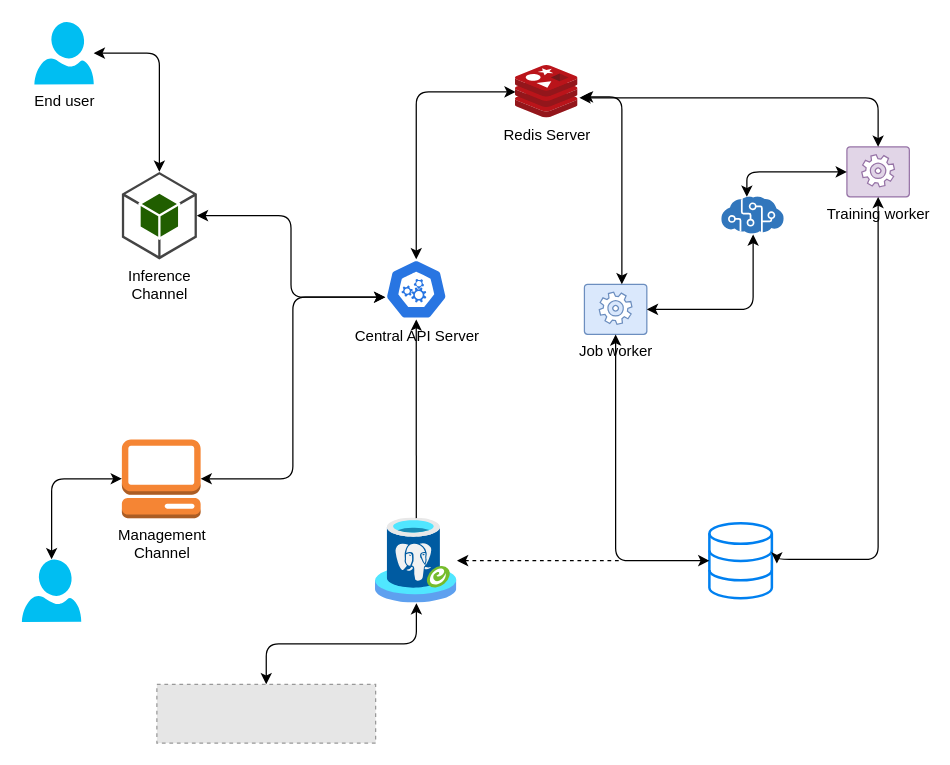
The diagram is 950 pixels wide and 765 high, and some of its shapes have lost their labels. Grey dashed boxes stand in for pictures. The shapes that lost their labels are listed below. From the top down, each one's centre as x and y in pixels, then its label:
the point at 415,560: PostgreSQL
the point at 740,560: Annotated Database
the point at 51,590: Admin
